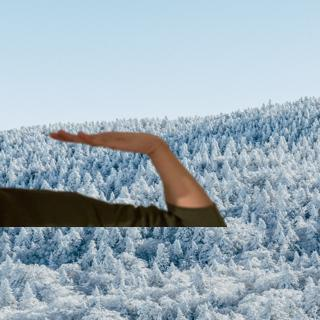WAIT: (43, 124, 166, 160)
